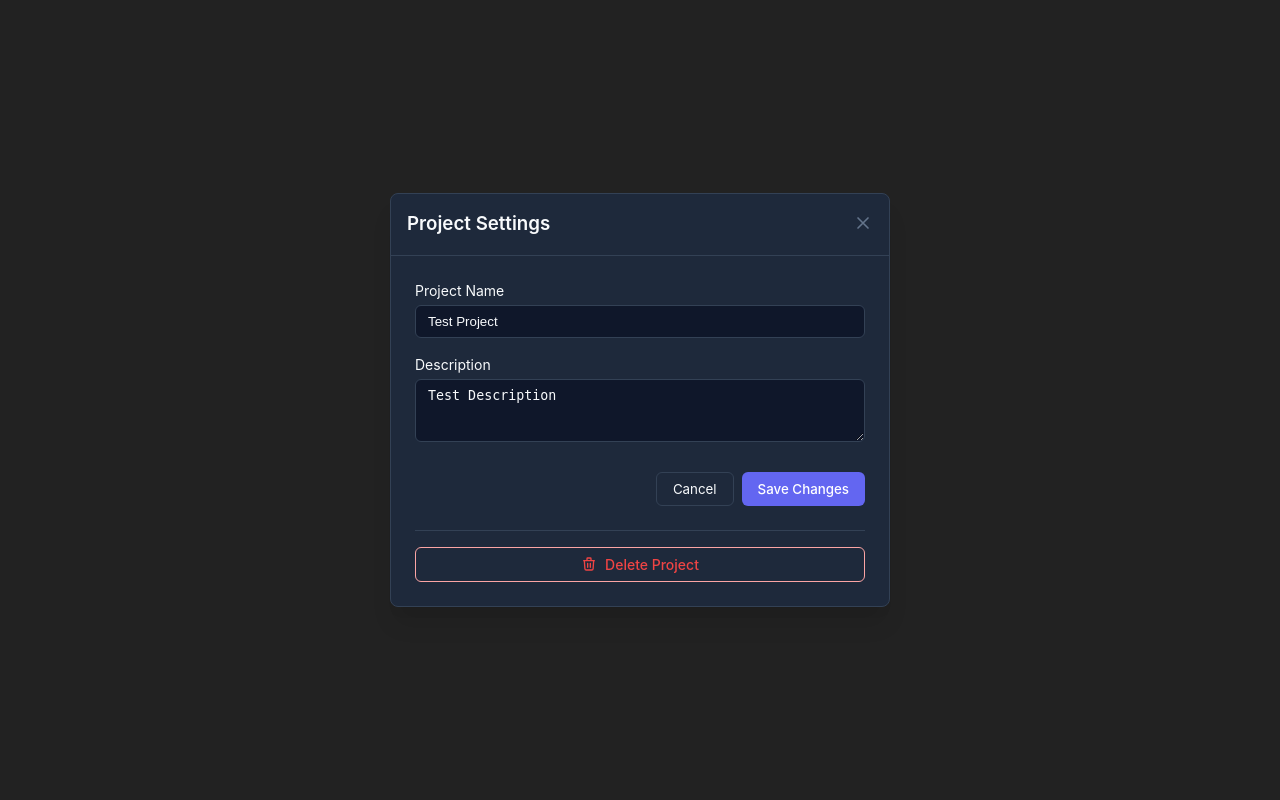
ProjectSettingsModal › should cancel delete confirmation
# Click delete button
Click the button "Delete Project" at (640, 564), box 415,546 -> 865,582
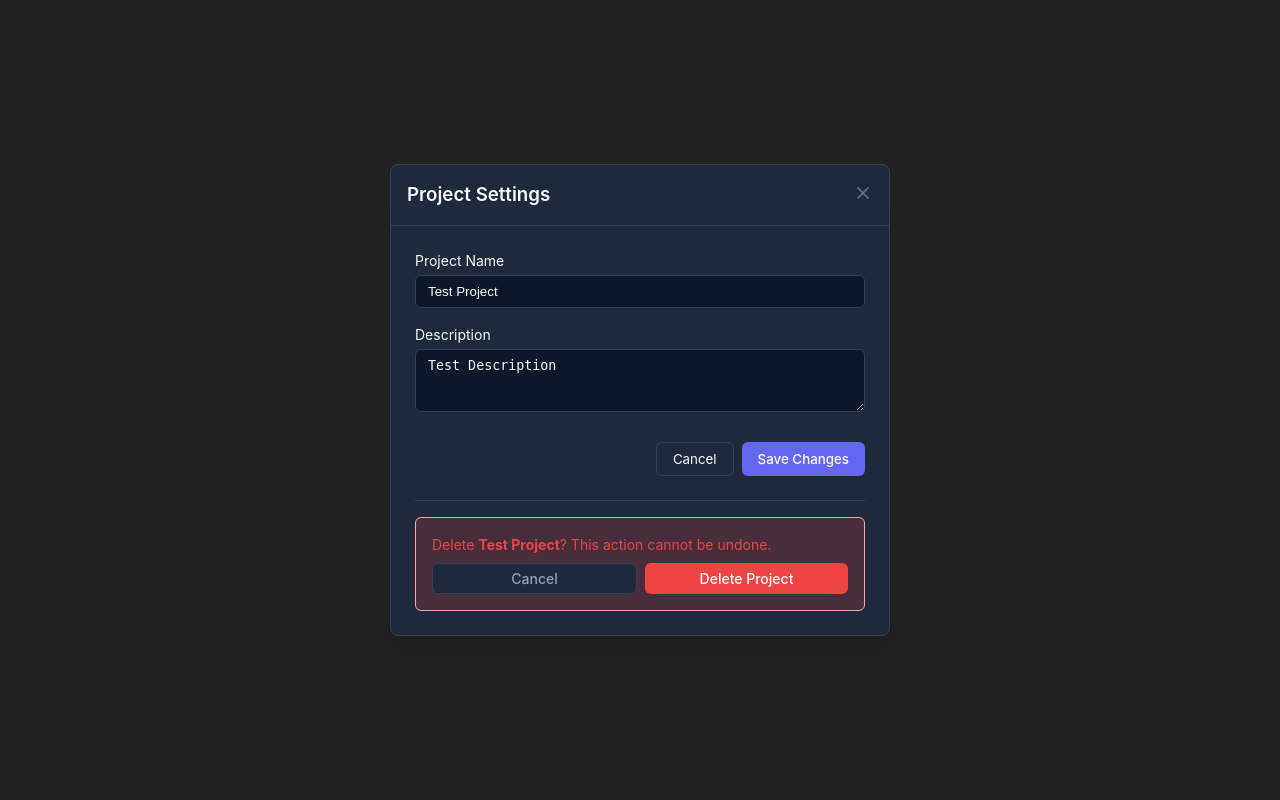
Expected: the text "Delete Test Project? This action cannot be undone." is shown, 432,536 -> 771,553
# Cancel deletion - get all Cancel buttons and click the second one (in confirmation)
Click the button "Cancel" below "Test Project" at (534, 578), box 432,563 -> 637,594
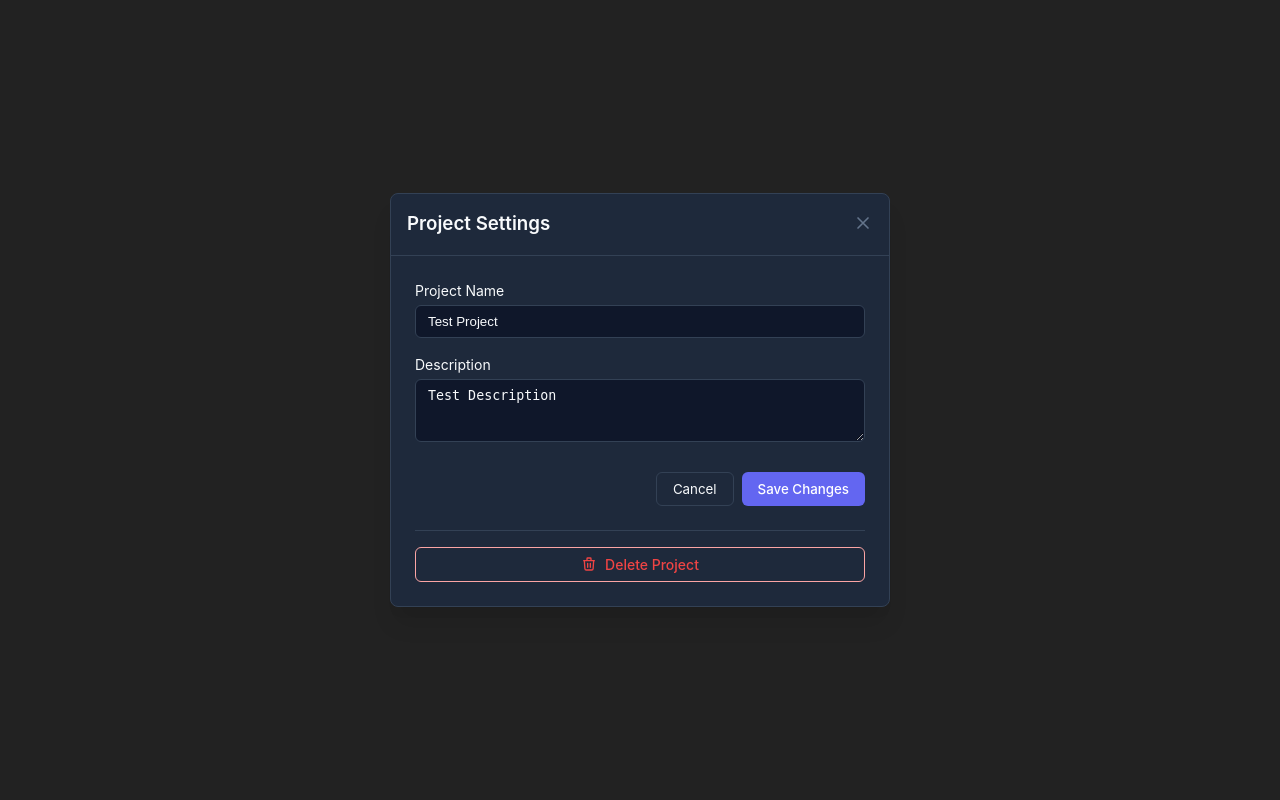
Expected: the text "cannot be undone" is gone
